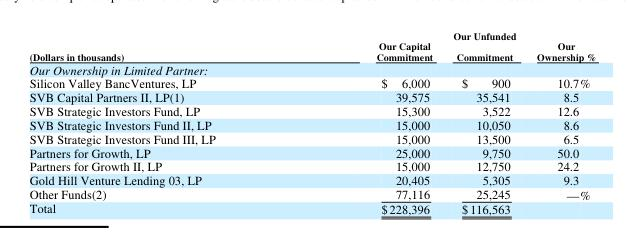table: (28, 28, 595, 202)
table column: (28, 28, 295, 202), (295, 28, 442, 202), (442, 28, 525, 202), (525, 28, 595, 202)
table column header: (28, 28, 595, 62)
table projected row header: (28, 62, 595, 75)
table row: (28, 28, 595, 62), (28, 186, 595, 202), (28, 75, 595, 89), (28, 89, 595, 103), (28, 103, 595, 117), (28, 117, 595, 131), (28, 144, 595, 158), (28, 158, 595, 172), (28, 172, 595, 186), (28, 62, 595, 75), (28, 131, 595, 144)
